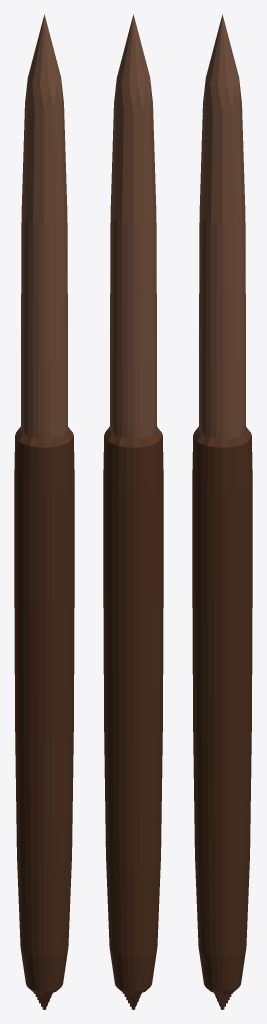
Rendered from Wand 4.glb.
3 renders of one model, left to right at view 1: azimuth 30°, elevation 25°; view 2: azimuth 210°, elevation 25°; view 3: azimuth 330°, elevation 25°, orthographic.
Visible parts, largest first — view 1: GeneratedWand; view 2: GeneratedWand; view 3: GeneratedWand.
Part boxes in pixels (bbox=[...]): GeneratedWand: bbox=[14, 14, 74, 1009]; GeneratedWand: bbox=[103, 14, 163, 1009]; GeneratedWand: bbox=[192, 14, 252, 1009].
Bounding box in the file's own units: 0.0273 × 0.4964 × 0.0273.
